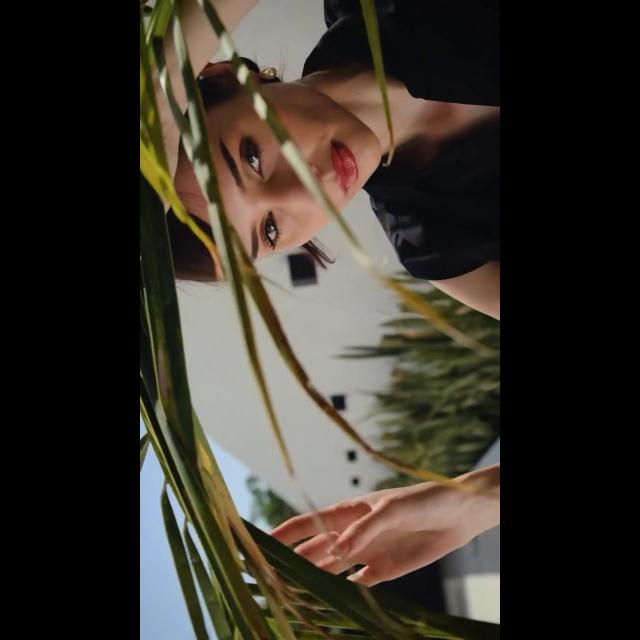ear ring: (263, 68, 285, 80)
